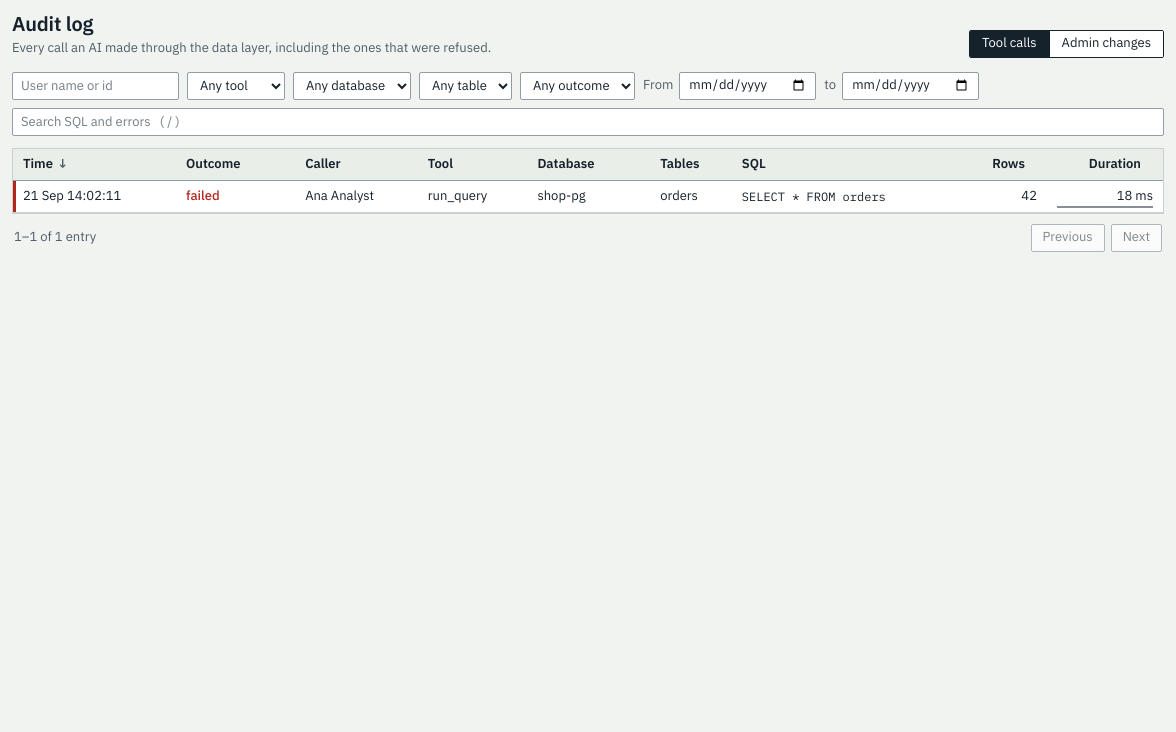
Scenario: audit log screen › expands a row to show the full SQL and the error
Click the text "Ana Analyst". click: [356, 197]
box: [295,181,418,213]
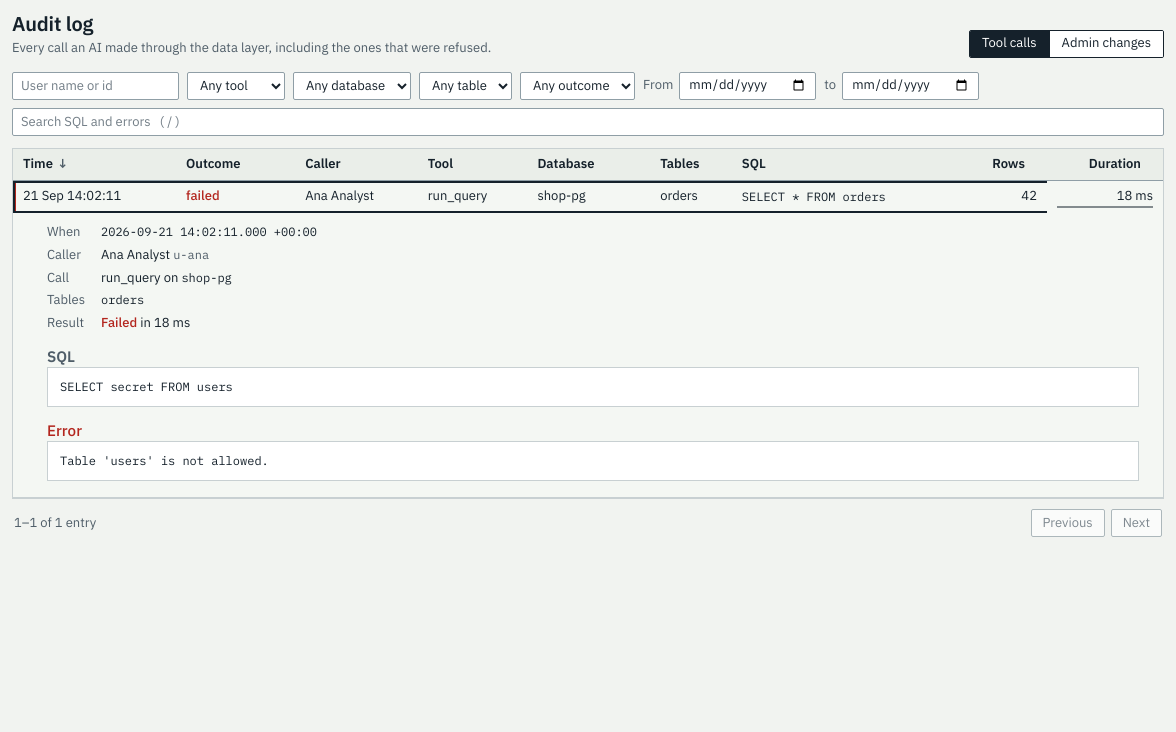
Result: the text "Table 'users' is not allowed." is shown at [47,441,1139,481]
Result: the text "SELECT secret FROM users" is shown at [47,367,1139,407]
